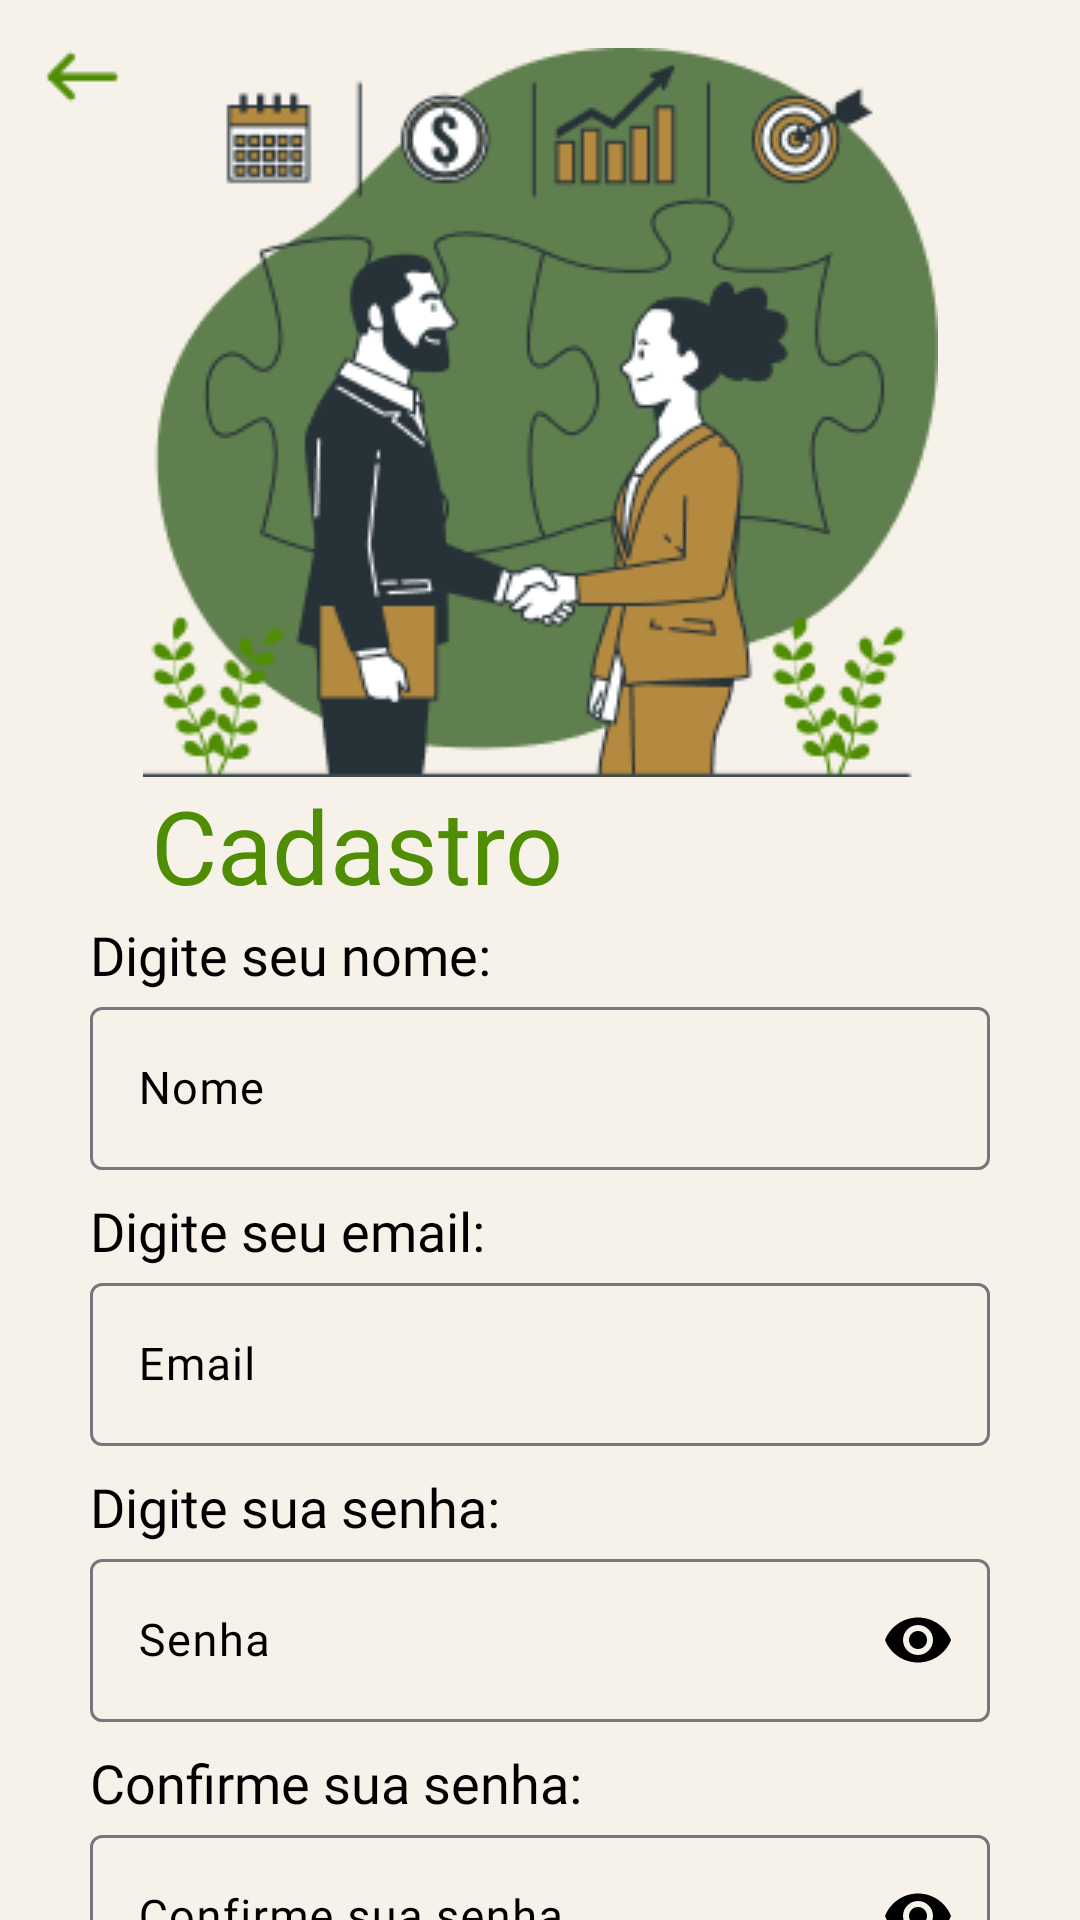

Icon click points for this 1080 x 1920 phone screenshot, format (x,y):
seta: (82,76)
